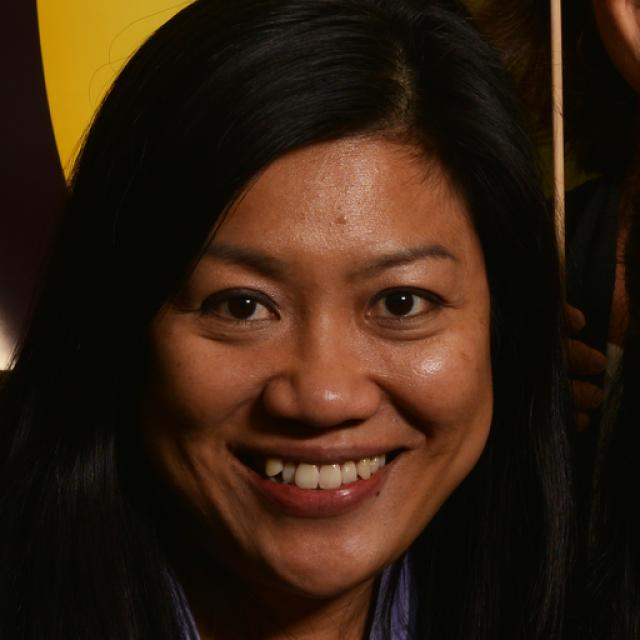Acne: (327, 210, 353, 229), (359, 225, 380, 240), (338, 184, 354, 202)
Spots: (450, 348, 471, 365)
